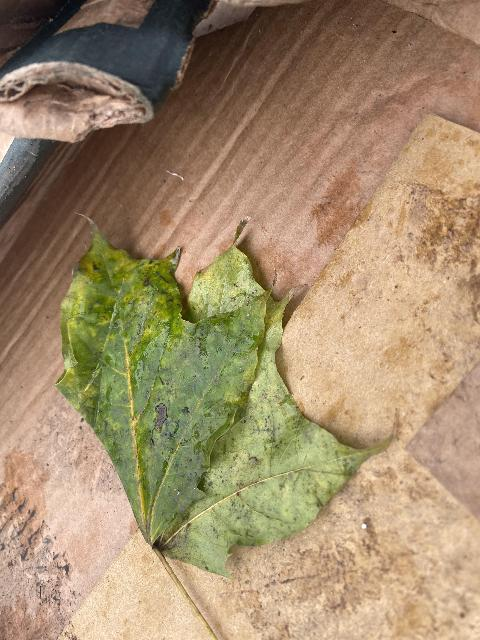Kagit: (0, 0, 211, 176)
Organik: (49, 240, 373, 529)
